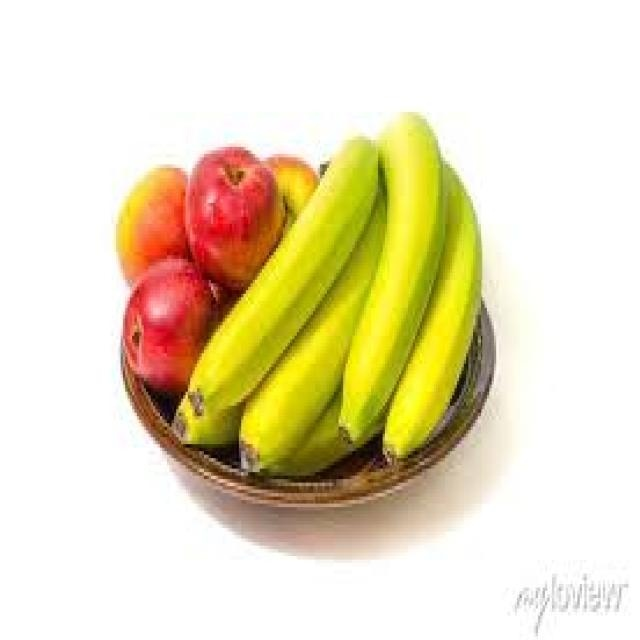agrume: (117, 234, 236, 407), (174, 134, 292, 290)
